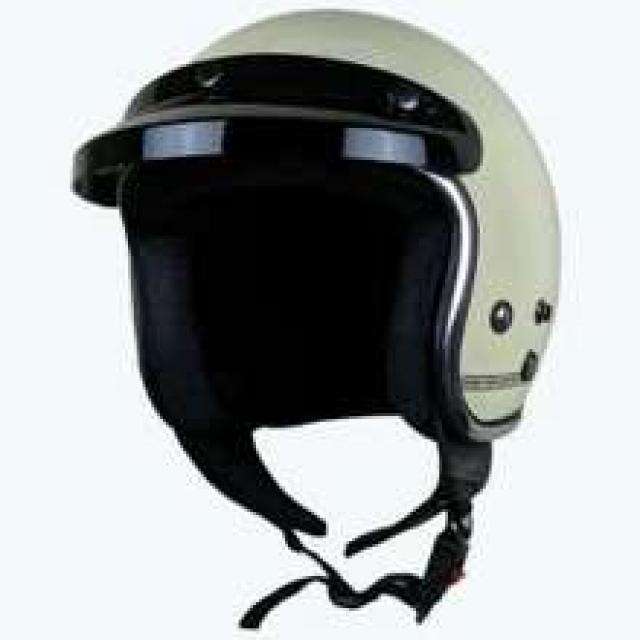Helm: (67, 4, 566, 638)
